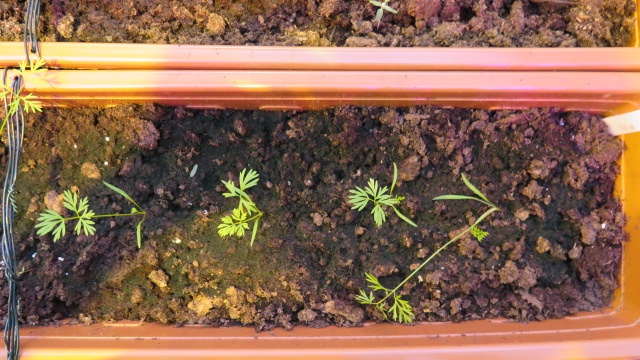crop: (354, 173, 508, 327), (31, 176, 147, 250), (341, 157, 422, 230), (215, 165, 273, 249)
weed: (366, 1, 402, 24)
